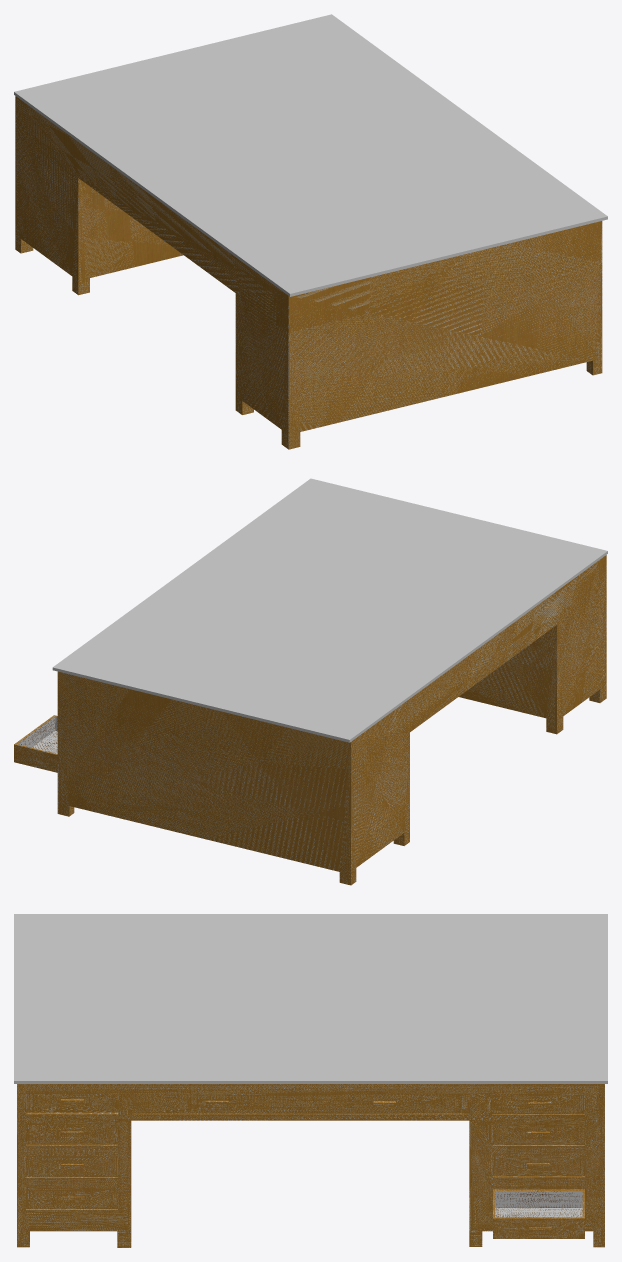
3 renders of one model, top to bottom at view 1: azimuth 30°, elevation 25°; view 2: azimuth 150°, elevation 25°; view 3: azimuth 270°, elevation 25°, orthographic. The views are drawn at different scales.
Parts seen in each view (by area): view 1: mesh1_mesh1-geometry; view 2: mesh1_mesh1-geometry; view 3: mesh1_mesh1-geometry.
Boxes of the visible parts, bbox=[...] form: mesh1_mesh1-geometry: bbox=[14, 14, 607, 449]; mesh1_mesh1-geometry: bbox=[14, 478, 607, 885]; mesh1_mesh1-geometry: bbox=[14, 914, 607, 1247].
Bounding box in the file's own units: 0.5955 × 0.2409 × 0.7664.
